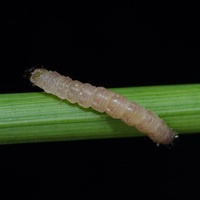insect: (30, 68, 177, 143)
